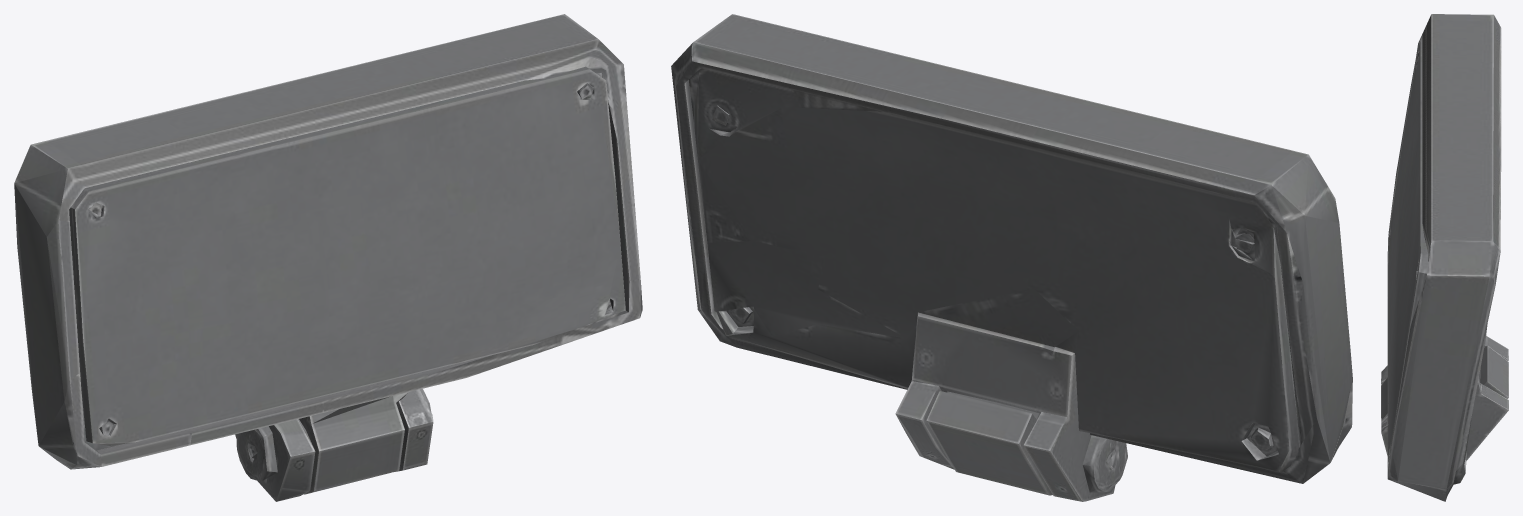
File: shared_flak_tower_large_option__radar_aperture_lod1.glb
3 views of the same model, side by side, from view 1: azimuth 30°, elevation 25°; view 2: azimuth 150°, elevation 25°; view 3: azimuth 270°, elevation 25° (orthographic). The views are drawn at different scales.
Parts seen in each view (by area): view 1: mesh_node; view 2: mesh_node; view 3: mesh_node.
Part boxes in pixels (x1,y1,x2,y2): mesh_node: (14, 14, 642, 501); mesh_node: (671, 14, 1352, 501); mesh_node: (1381, 14, 1508, 501).
Bounding box in the file's own units: 2.32 × 1.41 × 0.5044.
1 material, 1 textured.
